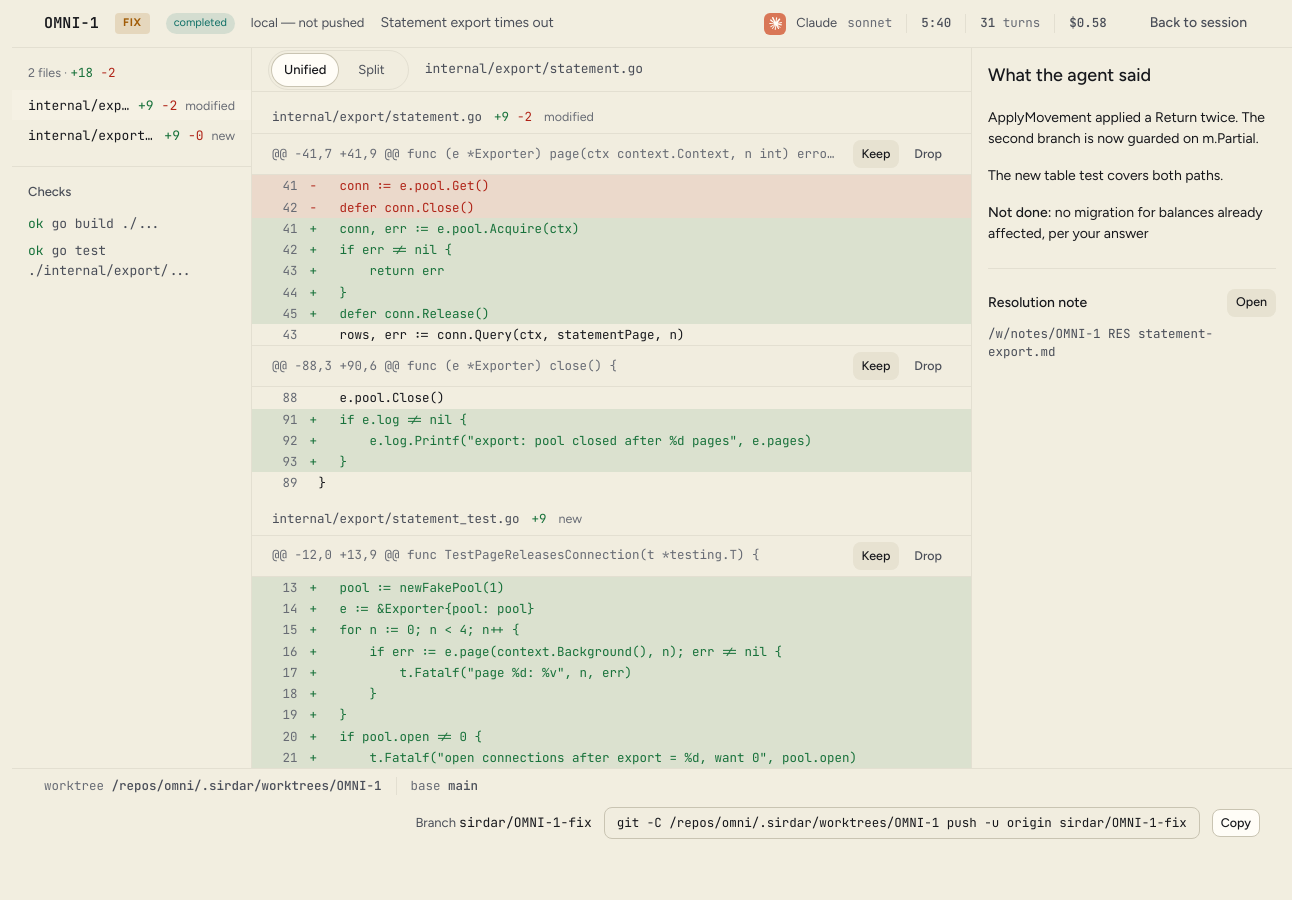
Test case: the Change review screen › reports a refused drop and reads the change again
The image size is (1292, 900).
Click the 1st button "Drop".
click(928, 154)  # box [905,140,951,168]
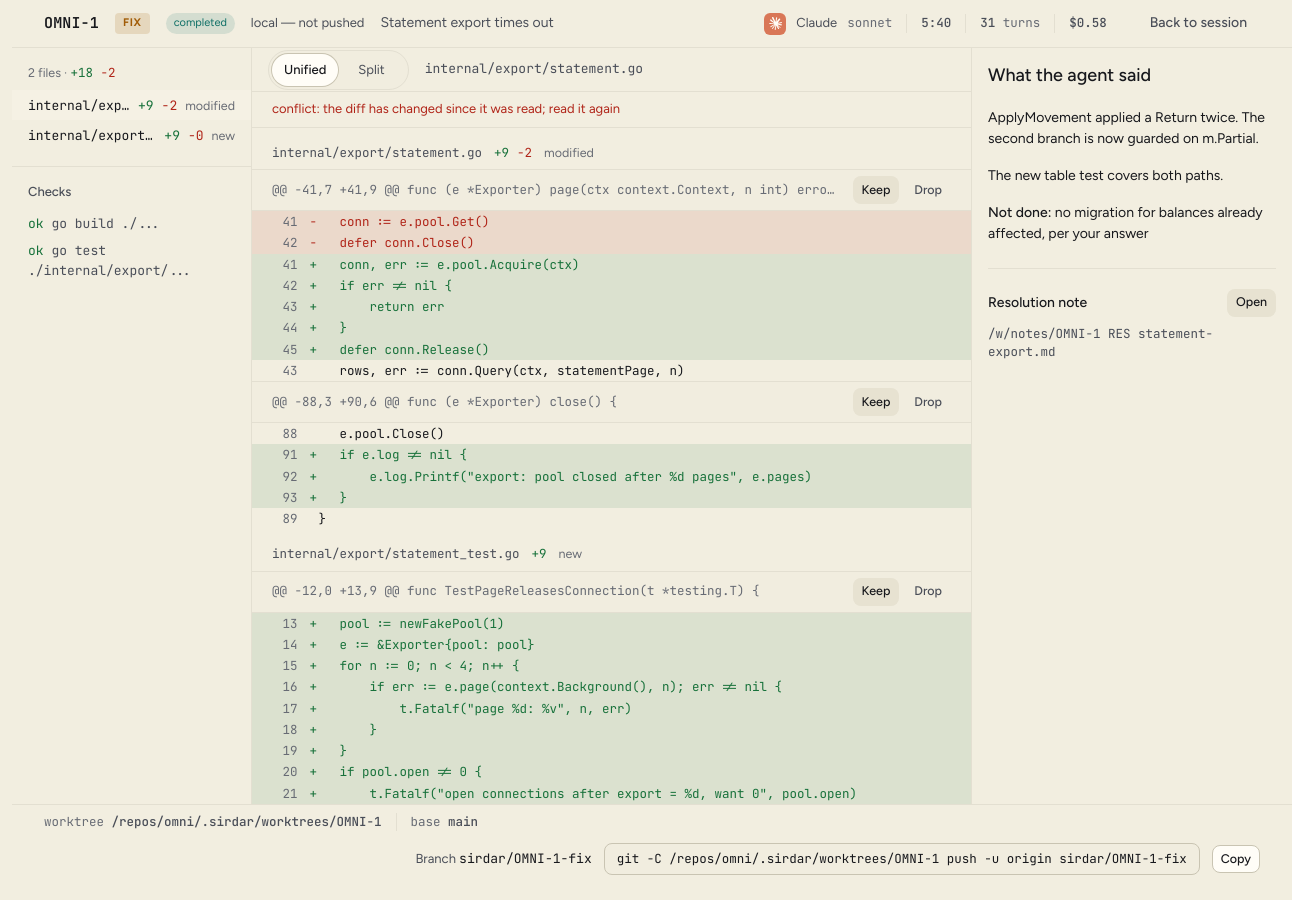
Expected: the number of elements named "internal/export/statement.go hunk 1" is 3, [252,169,971,381]; [252,381,971,529]; [252,571,971,804]
Now the message shows "conflict", box [272,101,620,116]
